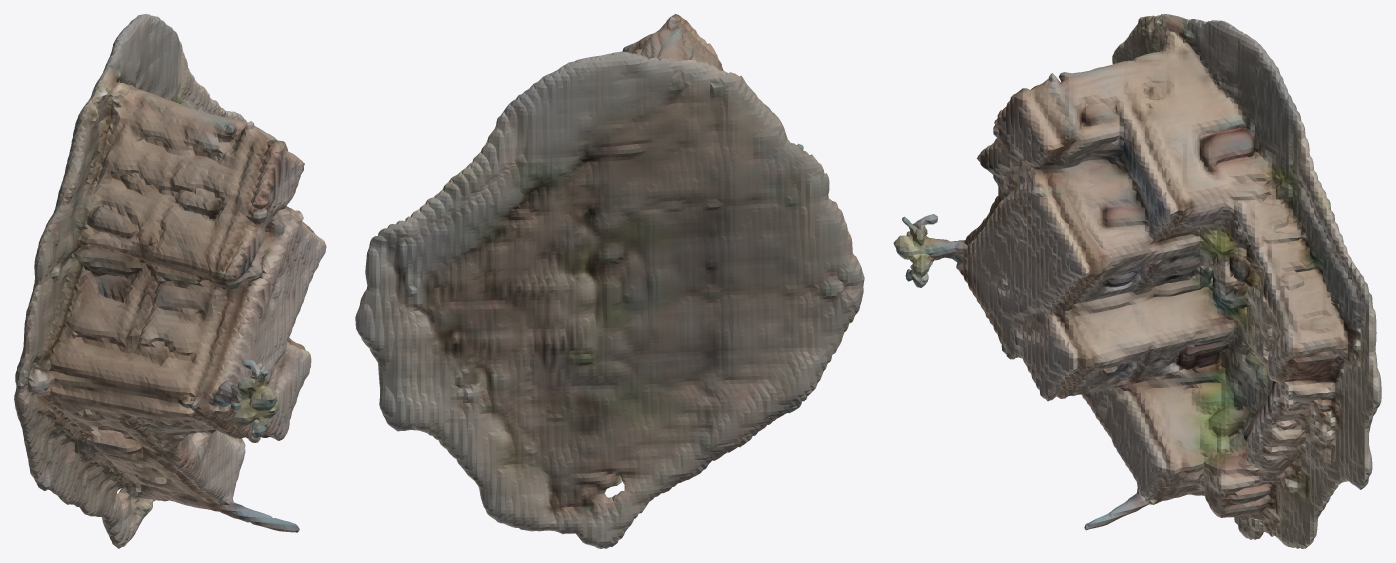
The picture shows the model from 3 angles, left to right: view 1: azimuth 30°, elevation 25°; view 2: azimuth 150°, elevation 25°; view 3: azimuth 270°, elevation 25°; orthographic projection. The views are drawn at different scales.
Visible parts, largest first — view 1: world; view 2: world; view 3: world.
Boxes of the visible parts, left/top/right/bottom form: world: left=14, top=14, right=326, bottom=548; world: left=355, top=14, right=864, bottom=548; world: left=893, top=14, right=1381, bottom=548.
Size of the model in its own units: 0.7106 by 0.9119 by 0.7885.
